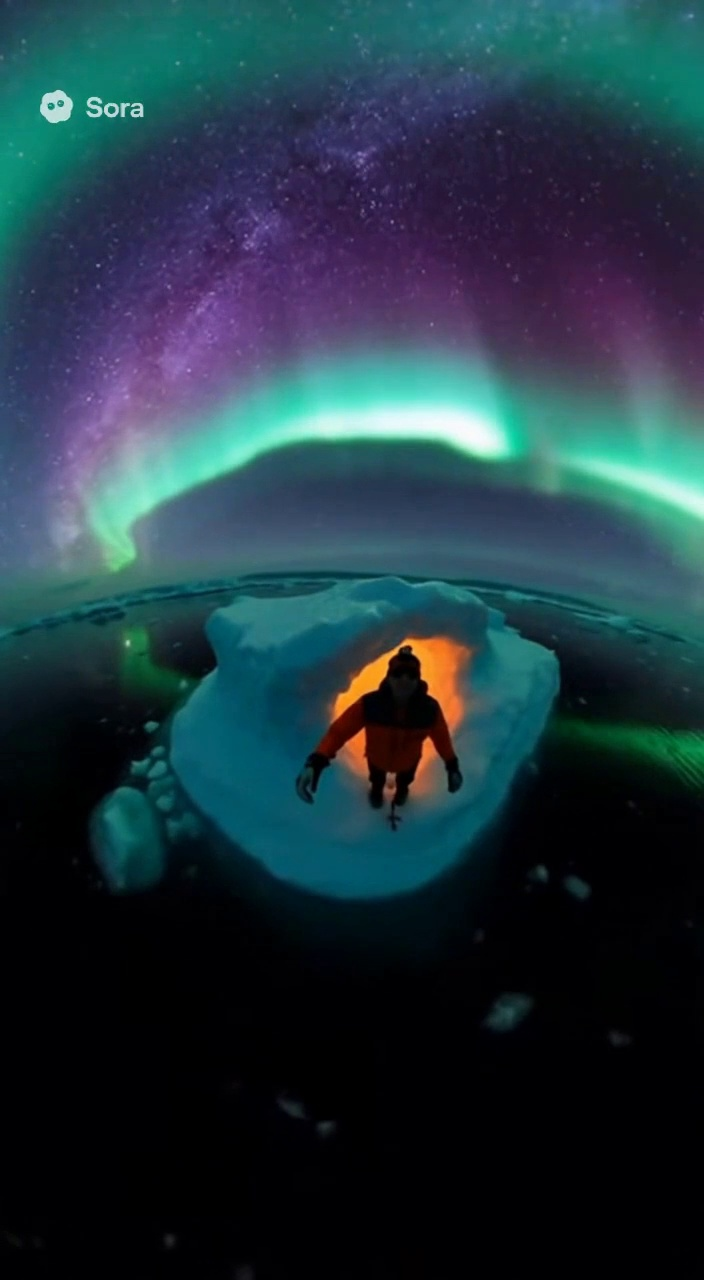watermark: (28, 87, 130, 129)
